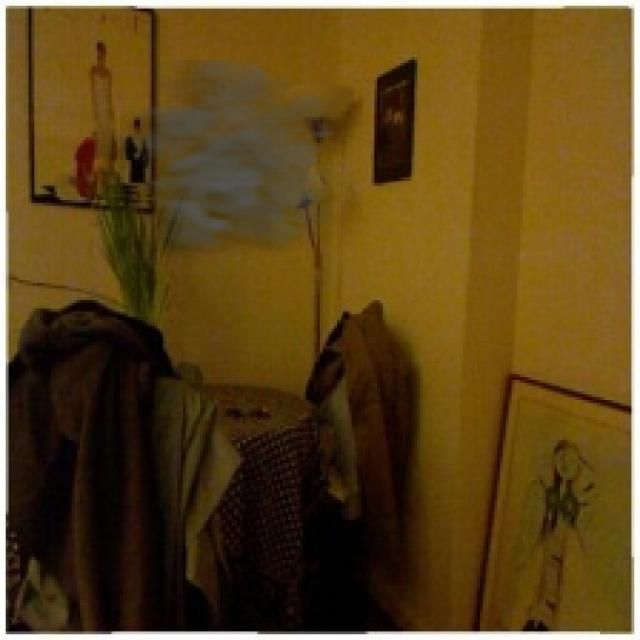Smoke: (120, 60, 363, 266)
